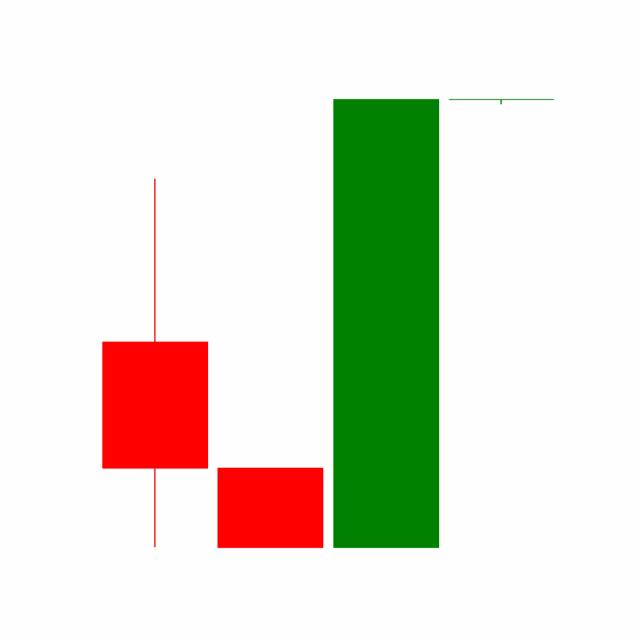Marubozu: (328, 94, 444, 552)
